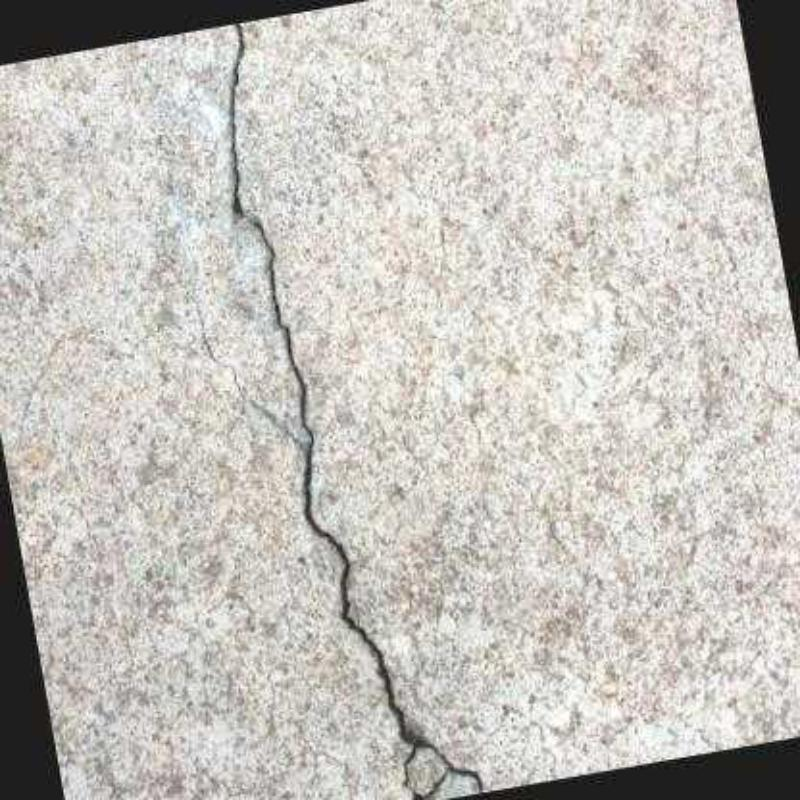pothole: (229, 22, 483, 800)
